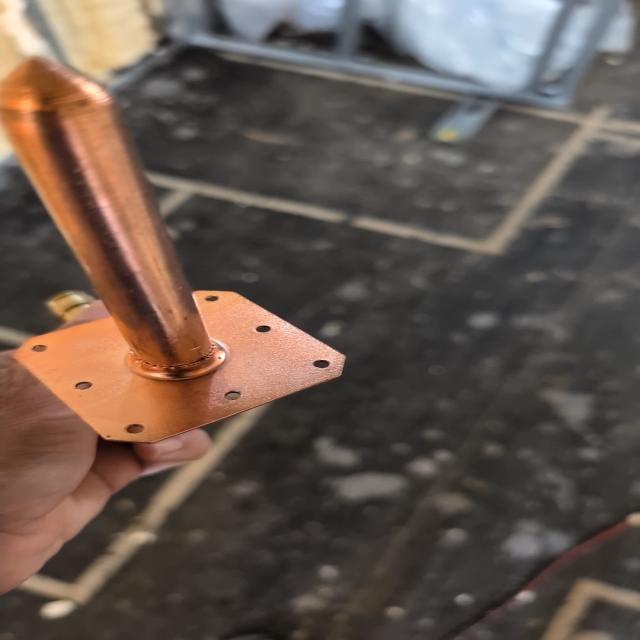wall_flange: (0, 48, 354, 441)
